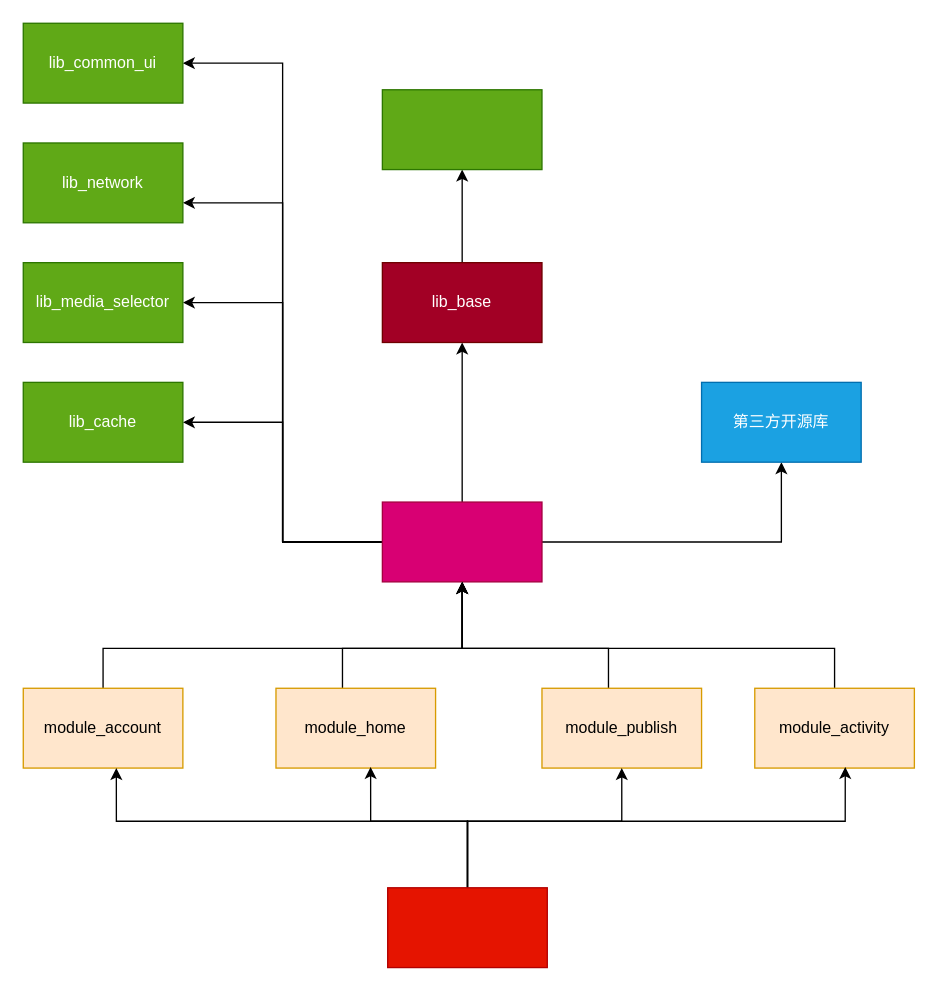
Some shapes in this 938 by 991 pixel diagram are drawn without their labels. Here are the shapes that lost their labels. From the top down, the centre of each, then its label:
(461,129): lib_foundation
(461,541): module_base
(466,927): app
